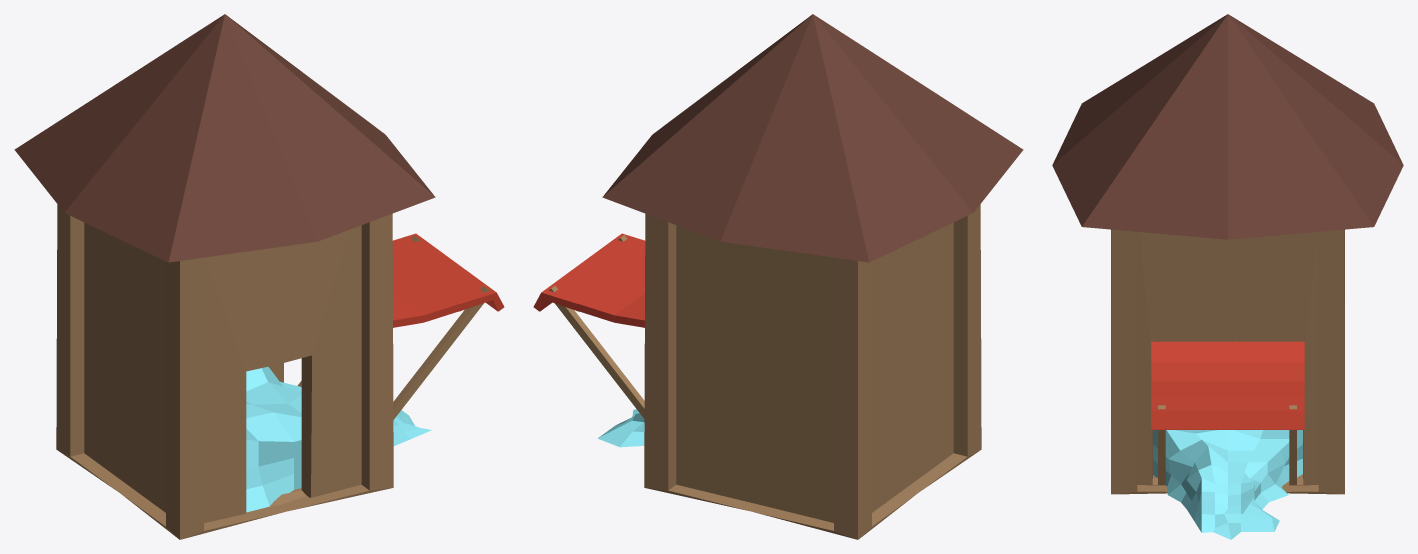
Rendered from FBX - SupplyStash(Human).fbx.
The picture shows the model from 3 angles, left to right: view 1: azimuth 30°, elevation 25°; view 2: azimuth 150°, elevation 25°; view 3: azimuth 270°, elevation 25°; orthographic projection. The views are drawn at different scales.
Visible parts, largest first — view 1: Plane, Cube.001, Cube.002, Cube.032; view 2: Plane, Cube.002, Cube, Cube.001; view 3: Plane, Cube.002, Cube.001, Cube.032, Cube.
Part boxes in pixels (x1=…): Plane: x1=14, y1=14, x2=435, y2=539; Cube.001: x1=246, y1=366, x2=431, y2=512; Cube.002: x1=392, y1=233, x2=504, y2=327; Cube.032: x1=393, y1=286, x2=489, y2=419; Plane: x1=602, y1=14, x2=1023, y2=539; Cube.002: x1=533, y1=233, x2=645, y2=327; Cube: x1=549, y1=285, x2=644, y2=418; Cube.001: x1=598, y1=409, x2=644, y2=447; Plane: x1=1052, y1=14, x2=1403, y2=494; Cube.002: x1=1151, y1=341, x2=1304, y2=429; Cube.001: x1=1153, y1=430, x2=1302, y2=539; Cube.032: x1=1158, y1=405, x2=1165, y2=485; Cube: x1=1289, y1=405, x2=1296, y2=485.
Bounding box in the file's own units: 569 × 631 × 457.
